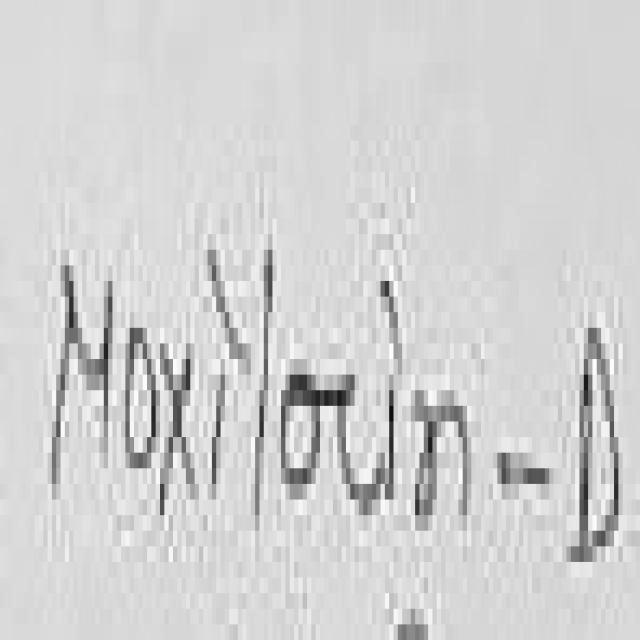D: (584, 328, 623, 554)
M: (52, 265, 112, 492)
c: (337, 375, 389, 515)
i: (208, 250, 251, 375), (212, 375, 229, 492), (381, 281, 402, 375), (389, 390, 398, 492)
l: (255, 250, 277, 523)
n: (415, 390, 471, 523)
o: (281, 375, 324, 500), (125, 328, 160, 468)
x: (160, 343, 199, 507)
